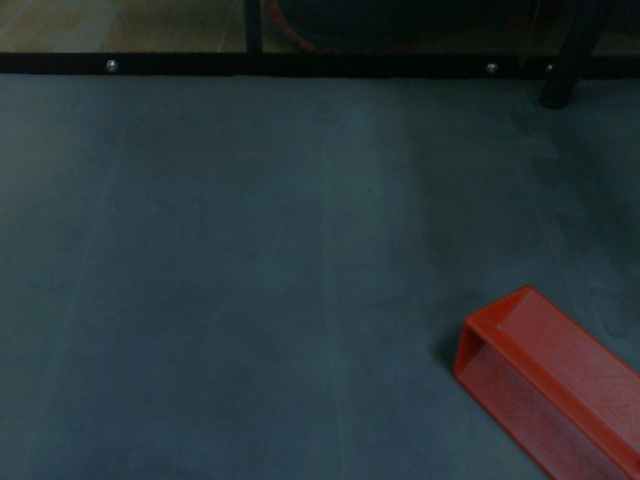RedSample: (450, 283, 638, 480)
